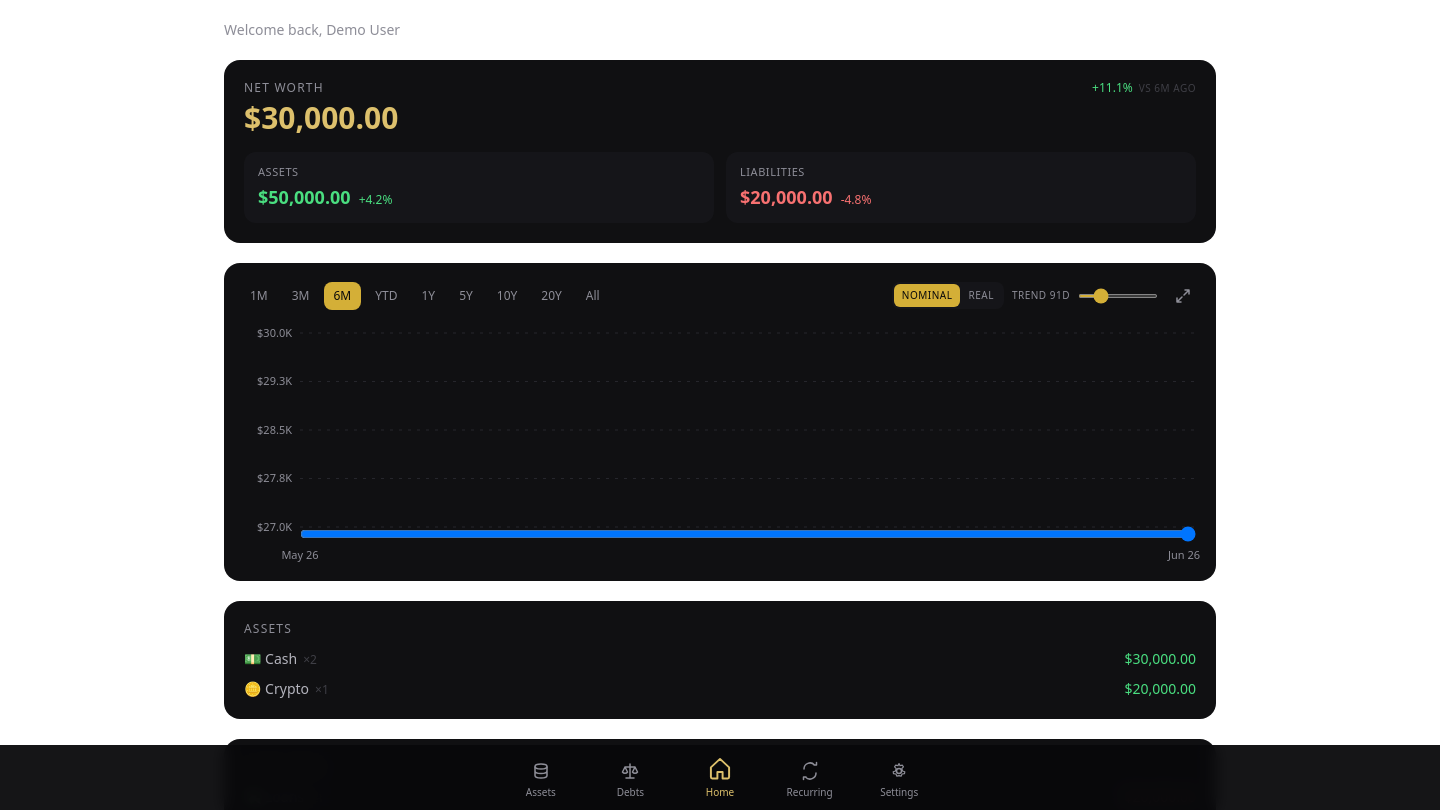
dashboard › toggles full-screen graph mode
The width and height of the screenshot is (1440, 810).
Click the button named "view graph full screen": coordinates (1183, 296) [1166,278,1200,312]
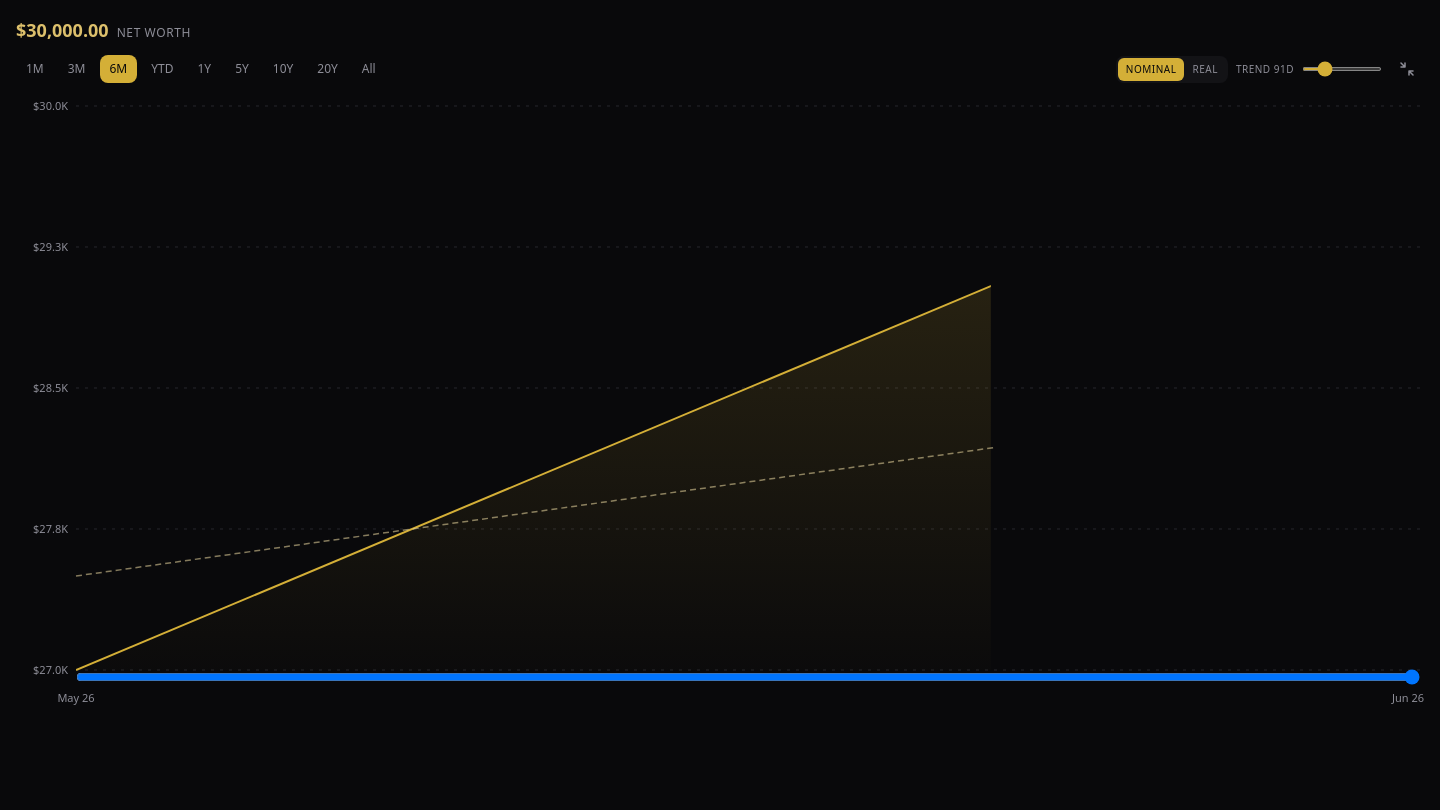
Expected: the slider named "trend rolling average window" is shown, [1302,67,1382,71]
Expected: the button named "exit full screen" is shown
Expected: the text "Welcome back" is gone
Click the button named "exit full screen": coordinates (1407, 69) [1390,52,1424,86]
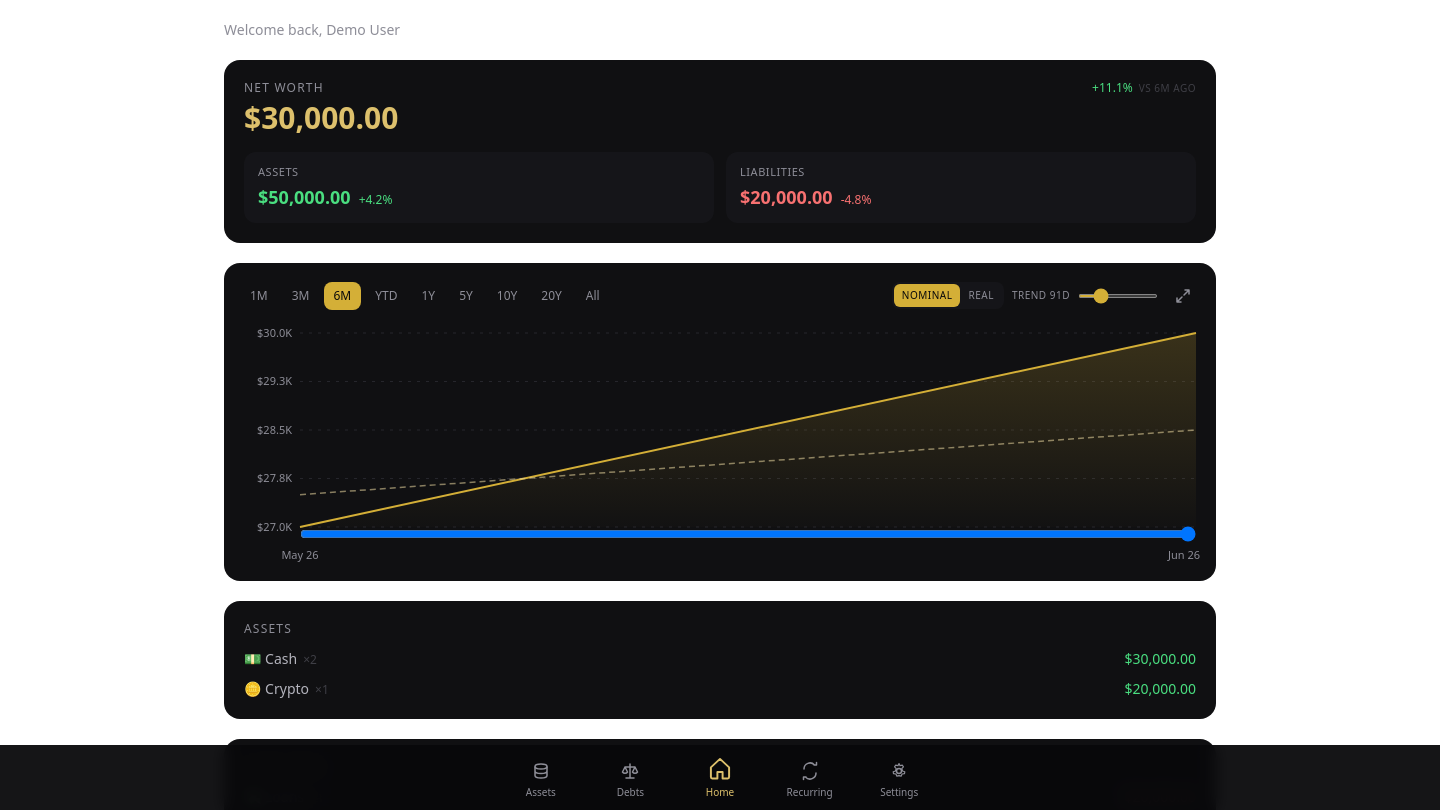
Expected: the text "Welcome back, Demo User" is shown, [224,20,400,40]
